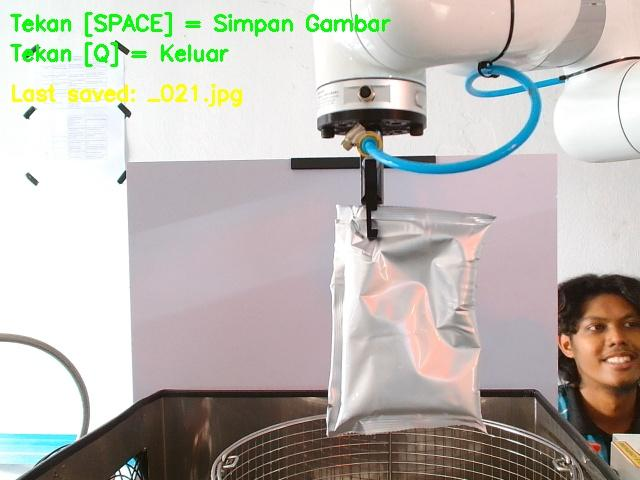retort-pouch: (324, 204, 495, 438)
